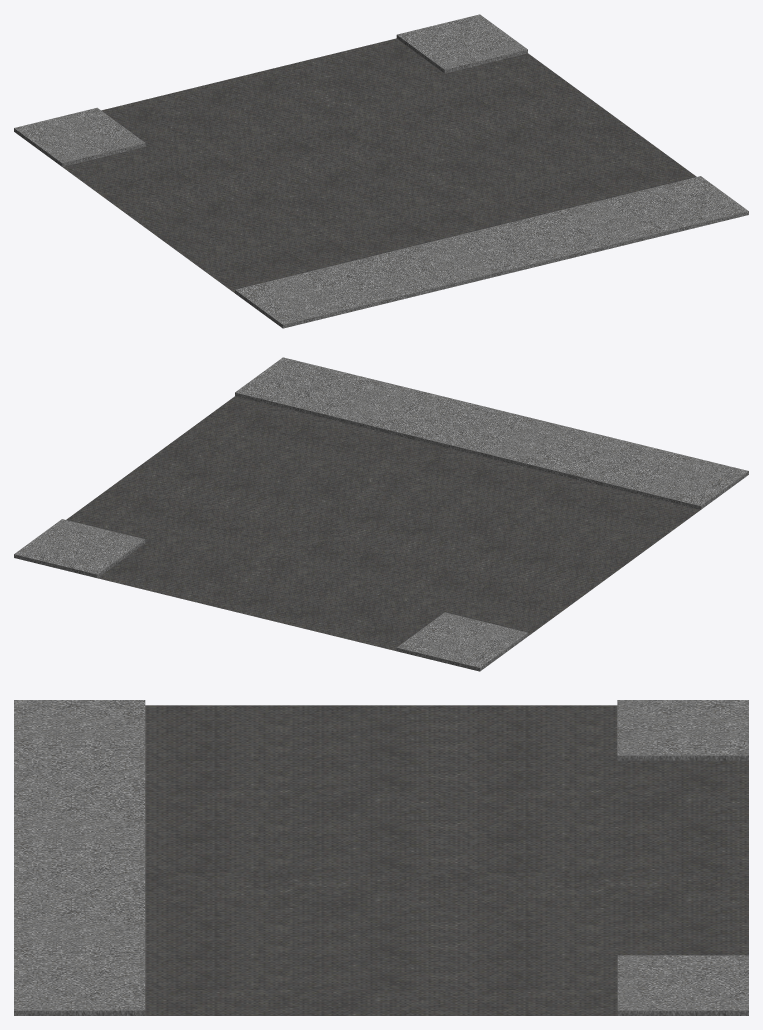
The model's file is Road_T.obj.
3 renders of one model, top to bottom at view 1: azimuth 30°, elevation 25°; view 2: azimuth 150°, elevation 25°; view 3: azimuth 270°, elevation 25°, orthographic. The views are drawn at different scales.
Parts seen in each view (by area): view 1: Road_T; view 2: Road_T; view 3: Road_T.
Boxes of the visible parts, x1,y1,x2,y2 form: Road_T: [14, 14, 748, 328]; Road_T: [14, 357, 748, 671]; Road_T: [14, 700, 748, 1015].
Size of the model in its own units: 15.57 by 0.1182 by 15.57.
